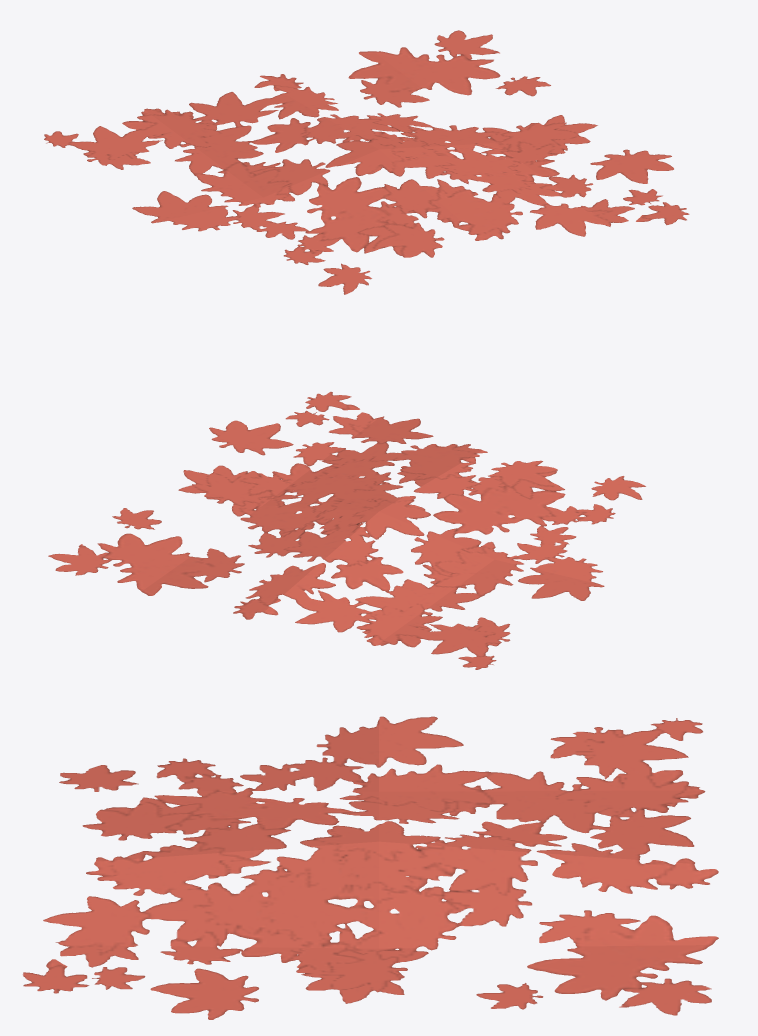
File: SM_Maple_Leaves_Pile_Pink.fbx
The picture shows the model from 3 angles, top to bottom: view 1: azimuth 30°, elevation 25°; view 2: azimuth 150°, elevation 25°; view 3: azimuth 270°, elevation 25°; orthographic projection. The views are drawn at different scales.
Parts seen in each view (by area): view 1: Plane.011; view 2: Plane.011; view 3: Plane.011.
Part boxes in pixels (x1,y1,x2,y2): Plane.011: [44, 30, 689, 294]; Plane.011: [48, 391, 645, 669]; Plane.011: [22, 716, 718, 1019].
Size of the model in its own units: 18.38 by 1.67 by 18.38.
